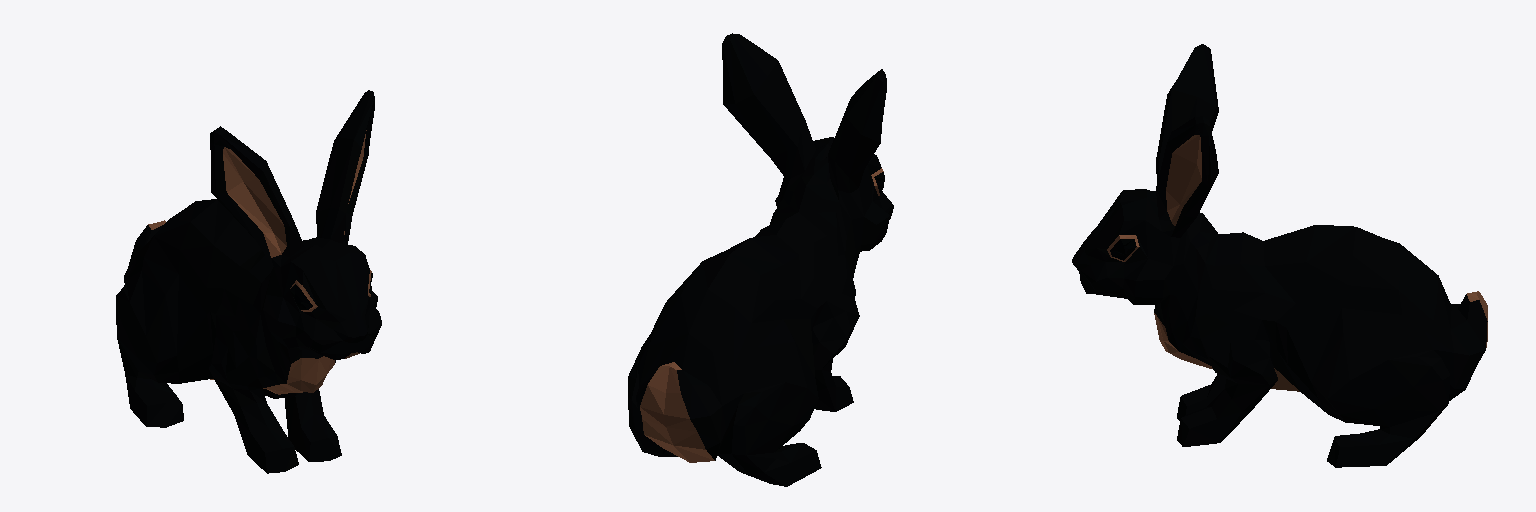
File: black-rabbit.obj
3 views of the same model, side by side, from view 1: azimuth 30°, elevation 25°; view 2: azimuth 150°, elevation 25°; view 3: azimuth 270°, elevation 25° (orthographic).
Visible parts, largest first — view 1: rabbit.001; view 2: rabbit.001; view 3: rabbit.001.
Part boxes in pixels (left/top/right/bottom): rabbit.001: left=116, top=90, right=381, bottom=473; rabbit.001: left=628, top=33, right=893, bottom=486; rabbit.001: left=1072, top=44, right=1487, bottom=467.
Bounding box in the file's own units: 1.06 × 2.19 × 2.35.